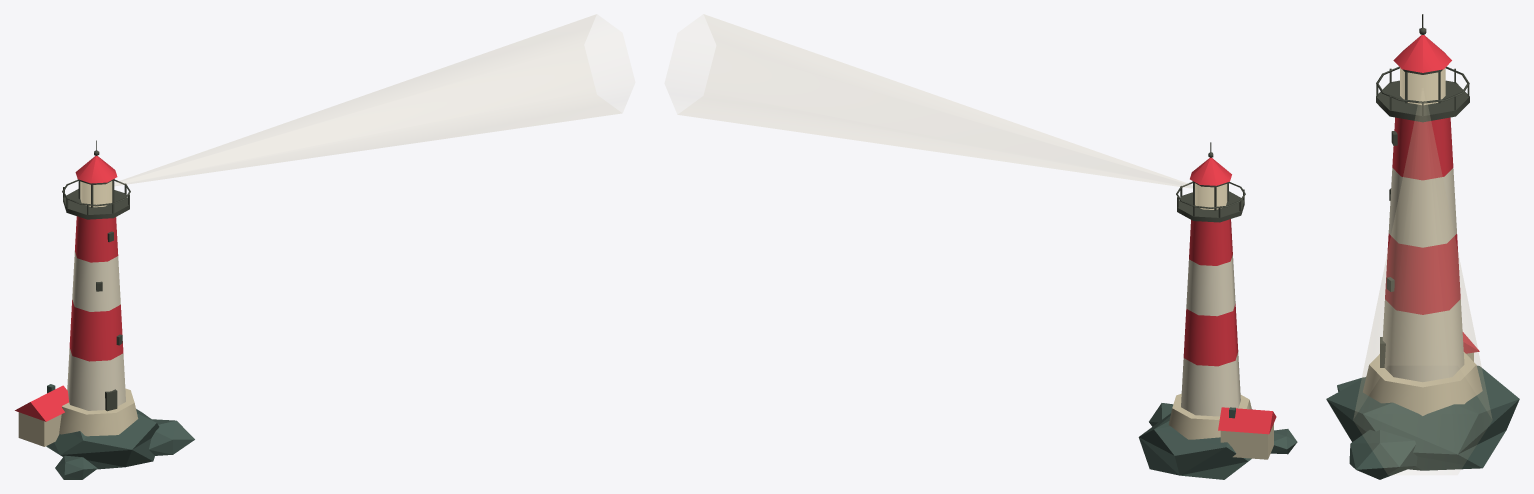
File: lighthouse.glb
The picture shows the model from 3 angles, left to right: view 1: azimuth 30°, elevation 25°; view 2: azimuth 150°, elevation 25°; view 3: azimuth 270°, elevation 25°; orthographic projection. The views are drawn at different scales.
Parts seen in each view (by area): view 1: toy_sweep, Lighthouse, Cottage; view 2: toy_sweep, Lighthouse, Cottage; view 3: Lighthouse, toy_sweep, Cottage.
Part boxes in pixels (x1=…): toy_sweep: x1=114, y1=14, x2=621, y2=185; Lighthouse: x1=46, y1=140, x2=194, y2=479; Cottage: x1=15, y1=384, x2=68, y2=446; toy_sweep: x1=678, y1=14, x2=1192, y2=188; Lighthouse: x1=1138, y1=142, x2=1297, y2=479; Cottage: x1=1218, y1=407, x2=1276, y2=459; Lighthouse: x1=1326, y1=14, x2=1519, y2=479; toy_sweep: x1=1354, y1=89, x2=1491, y2=418; Cottage: x1=1462, y1=332, x2=1479, y2=361.
Size of the model in its own units: 34.08 by 18.17 by 7.22.
